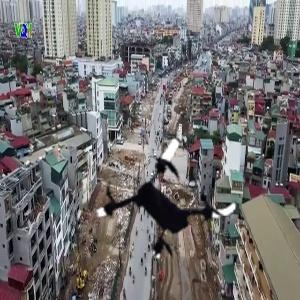drone: (97, 125, 242, 270)
